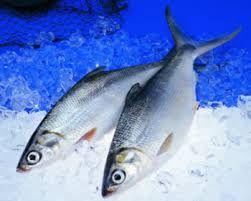Bangus: (100, 4, 246, 198), (19, 77, 102, 176)
